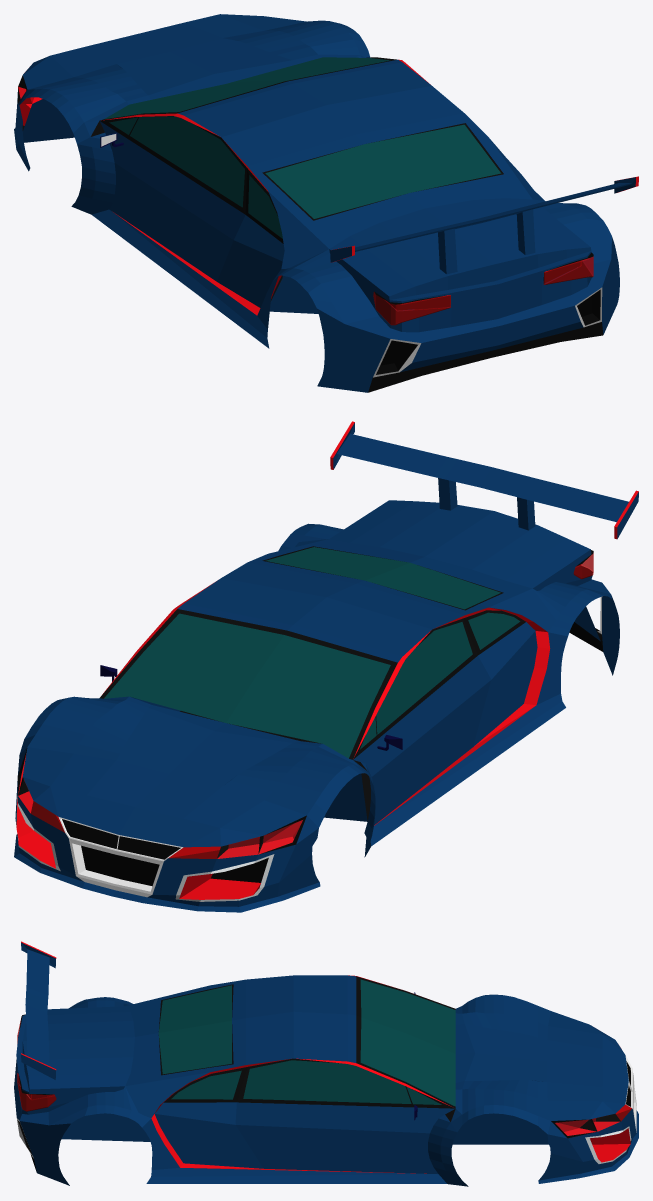
Rendered from RacingCar.fbx.
The picture shows the model from 3 angles, top to bottom: view 1: azimuth 30°, elevation 25°; view 2: azimuth 150°, elevation 25°; view 3: azimuth 270°, elevation 25°; orthographic projection. The views are drawn at different scales.
Visible parts, largest first — view 1: Plane.005; view 2: Plane.005; view 3: Plane.005.
Part boxes in pixels (<box>): Plane.005: <box>14,14,638,392</box>; Plane.005: <box>14,421,638,912</box>; Plane.005: <box>14,941,638,1186</box>.
Bounding box in the file's own units: 2.4 × 1.23 × 5.32.
